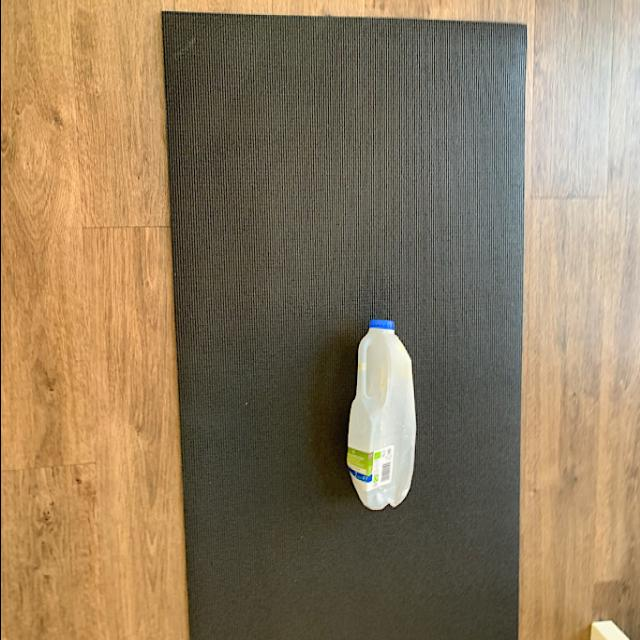HDPEM: (340, 312, 420, 518)
